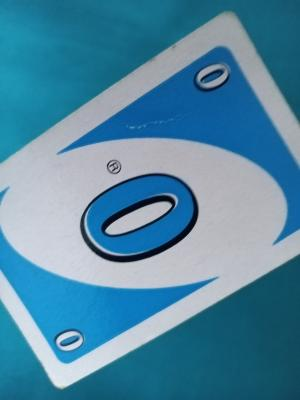blue: (4, 164, 283, 265)
num_0: (192, 58, 233, 95)
